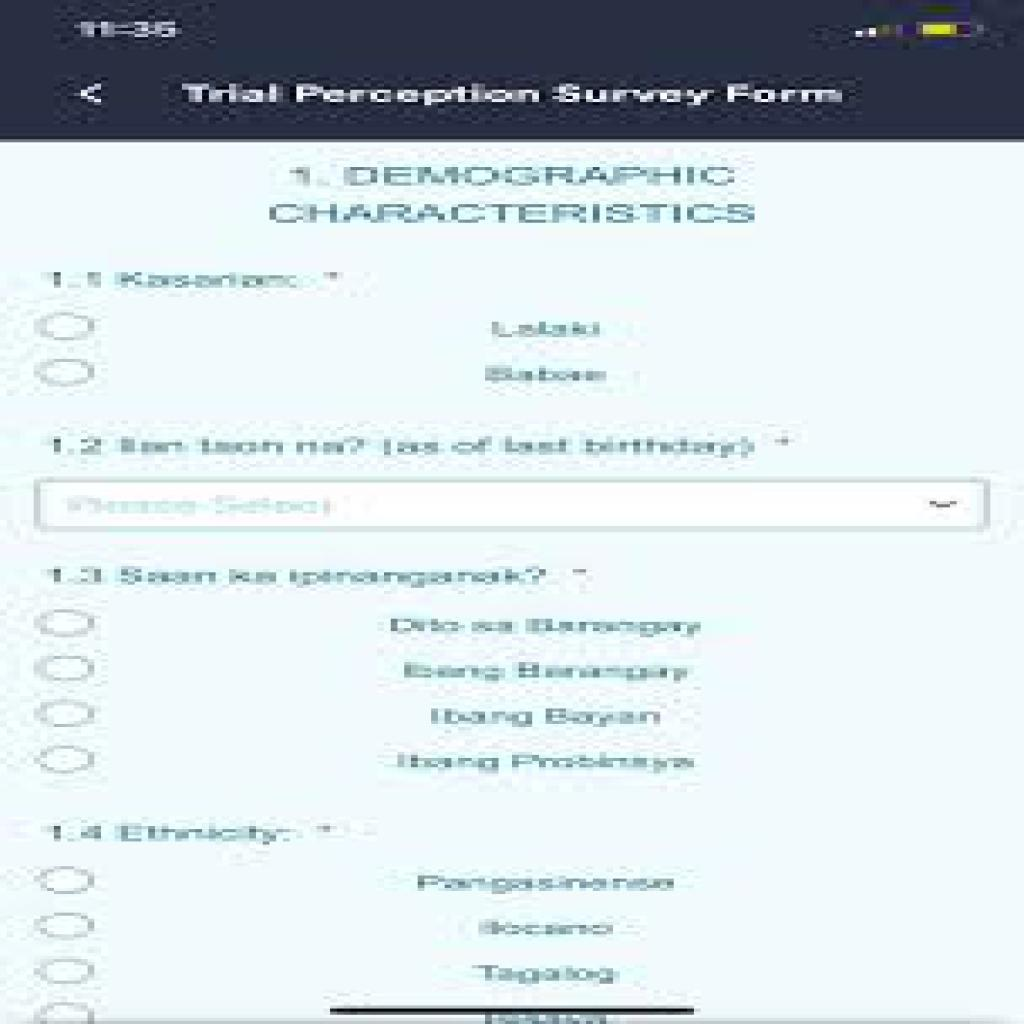dropdown: (34, 478, 992, 533)
radio: (31, 955, 103, 994), (30, 355, 99, 395), (31, 605, 98, 643), (33, 696, 102, 731), (33, 863, 98, 900), (32, 909, 100, 944), (36, 309, 100, 346), (35, 653, 102, 688), (33, 745, 98, 779)
